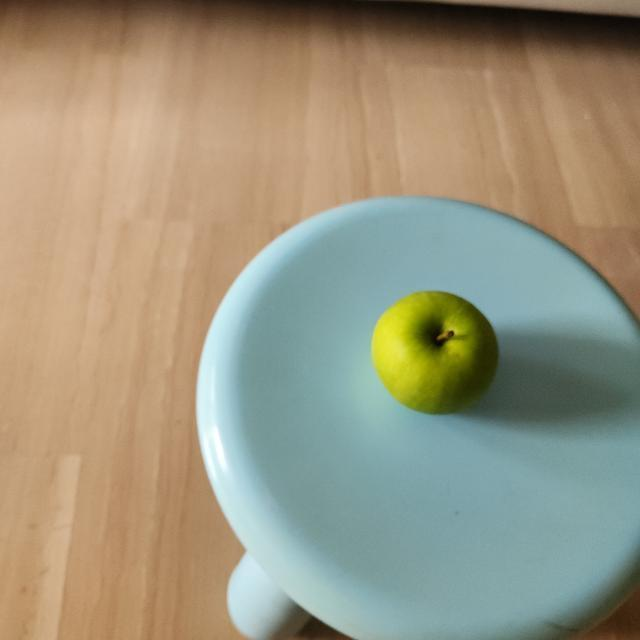apple: (373, 288, 503, 419)
